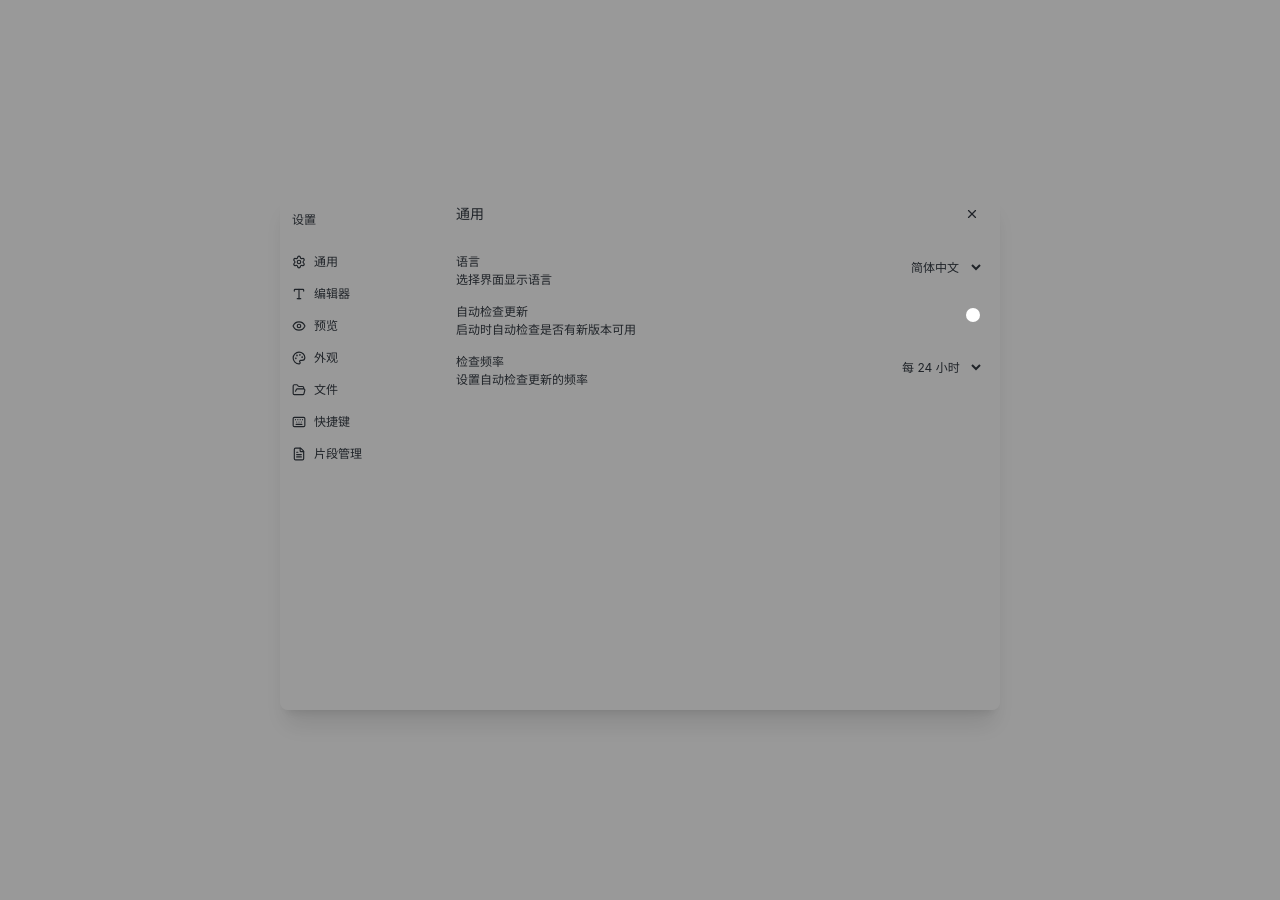
Test: ShortcutSettings › Shortcuts Tab Rendering › should display all default keyboard shortcuts
This screenshot has width=1280, height=900.
// Click the shortcuts tab first
Click the button "快捷键": x=360, y=422 [280, 406, 440, 438]
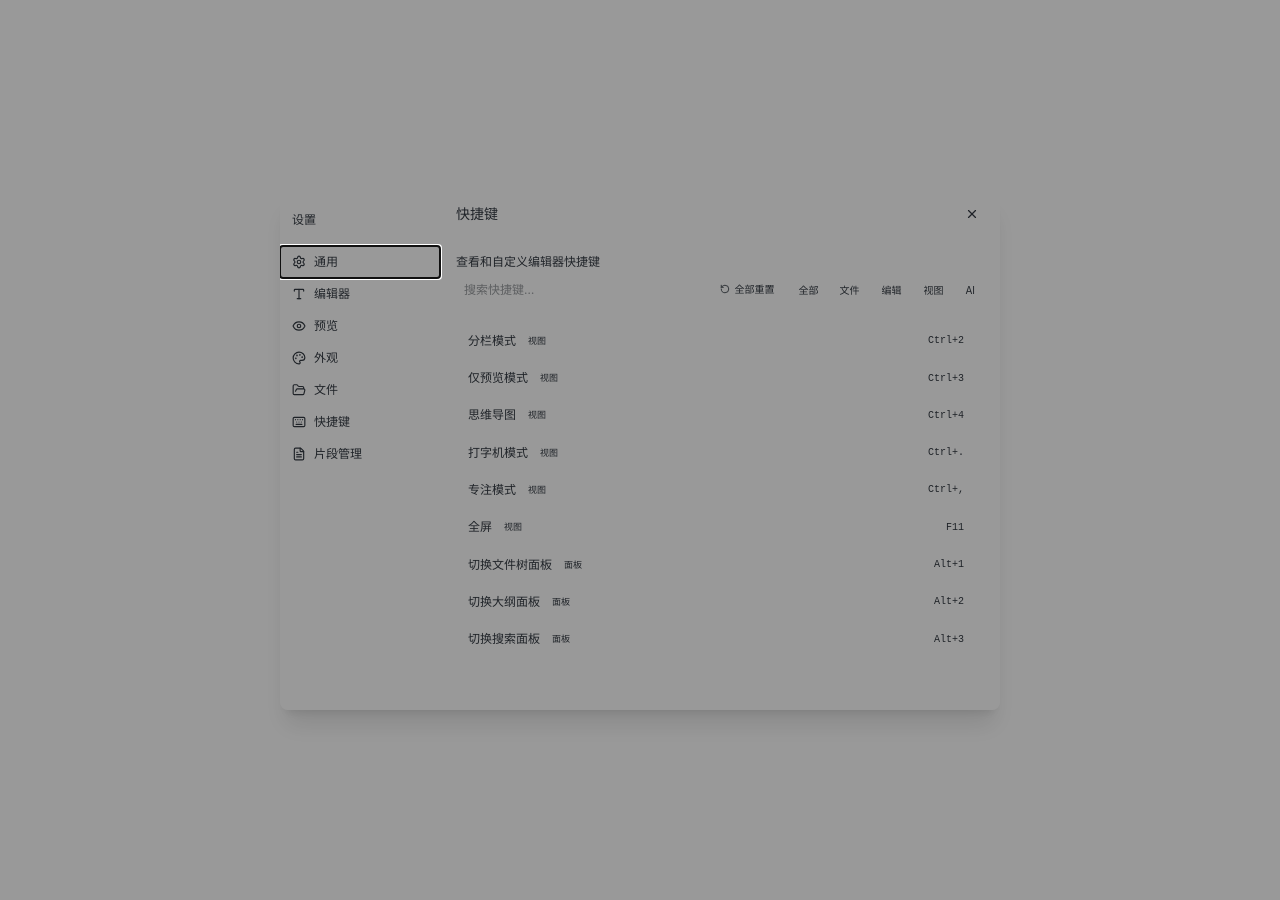
Now the text "分栏模式" is shown, box [468, 333, 516, 349]
Now the text "Ctrl+2" is shown, box [928, 335, 964, 346]
Now the text "仅预览模式" is shown, box [468, 370, 528, 386]
